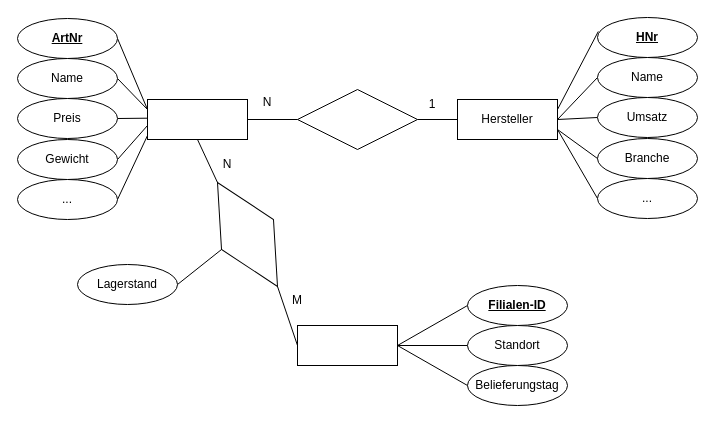
Image size: 715x423. Some labels were removed from this diagram. The shapes that lost their labels are listed below. From the top down, each one's centre as x and y in pixels, then its label:
(x=197, y=119): Artikel
(x=357, y=119): stellt_her
(x=247, y=234): lagert
(x=347, y=345): Filiale
